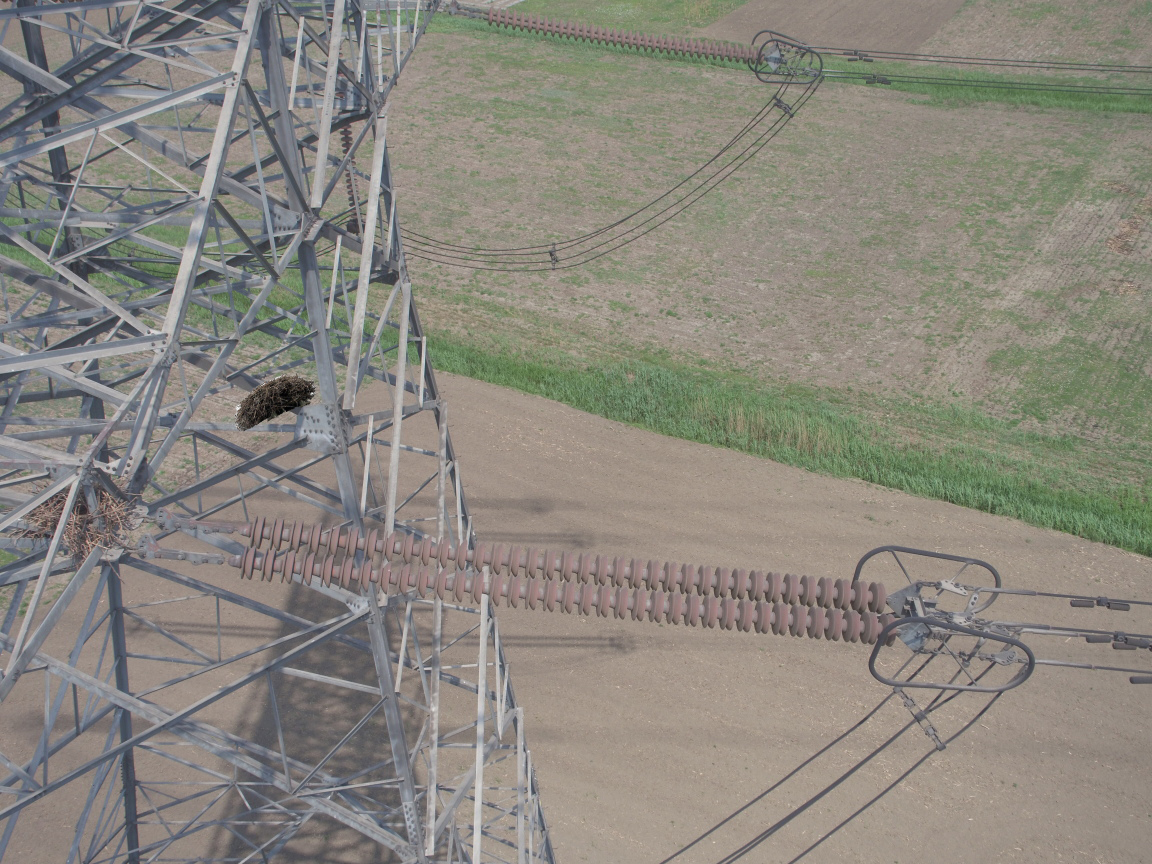nest: (13, 465, 168, 585), (233, 366, 316, 440)
